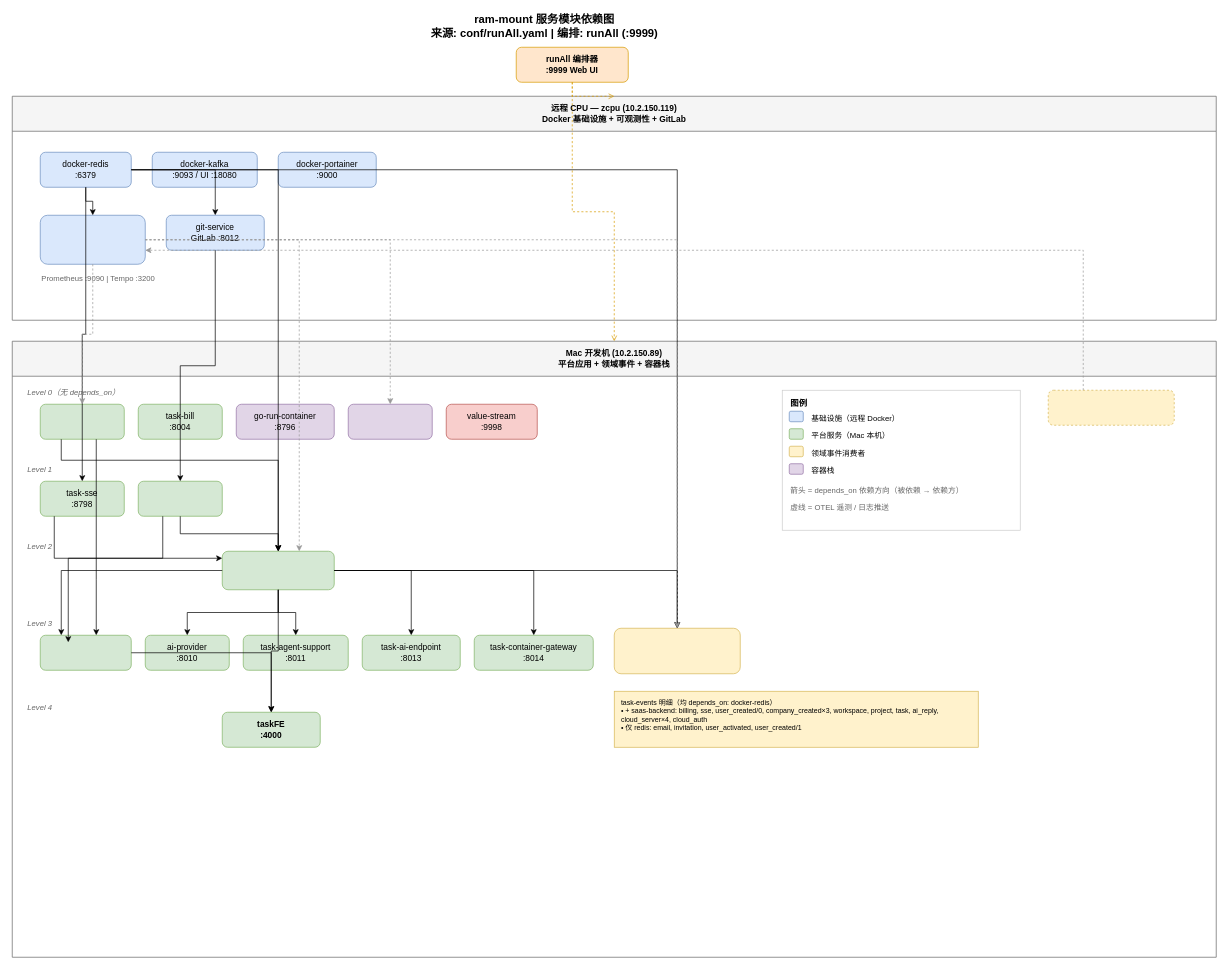
Some shapes in this 1229 by 970 pixel diagram are drawn without their labels. Here are the shapes that lost their labels. From the top down, the centre of each, then its label:
the point at 92,239: ai-monitor Grafana :3000 Loki :3100 OTEL :4317/4318
the point at 82,421: task-auth :8003
the point at 390,421: go-relay :8797
the point at 1111,407: Promtail（本地） /tmp/runall-logs → Loki
the point at 180,498: git-oauth :8002
the point at 278,570: saas-backend (Django) :8001
the point at 85,652: task-gateway :8080
the point at 677,651: task-events-* (×16) :18020–18037 领域事件消费者
